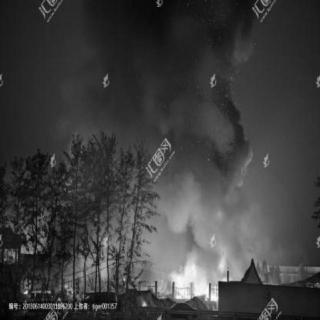Smoke: (83, 3, 251, 241)
